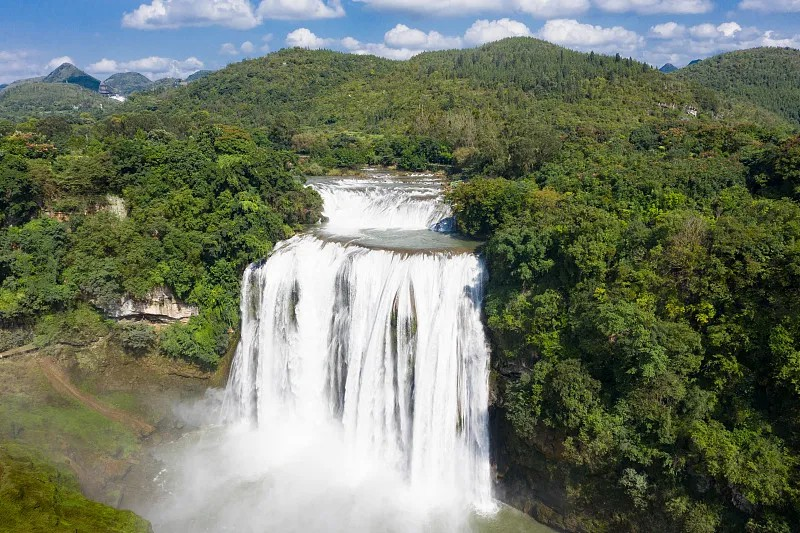Huangguoshu: (226, 176, 498, 513)
